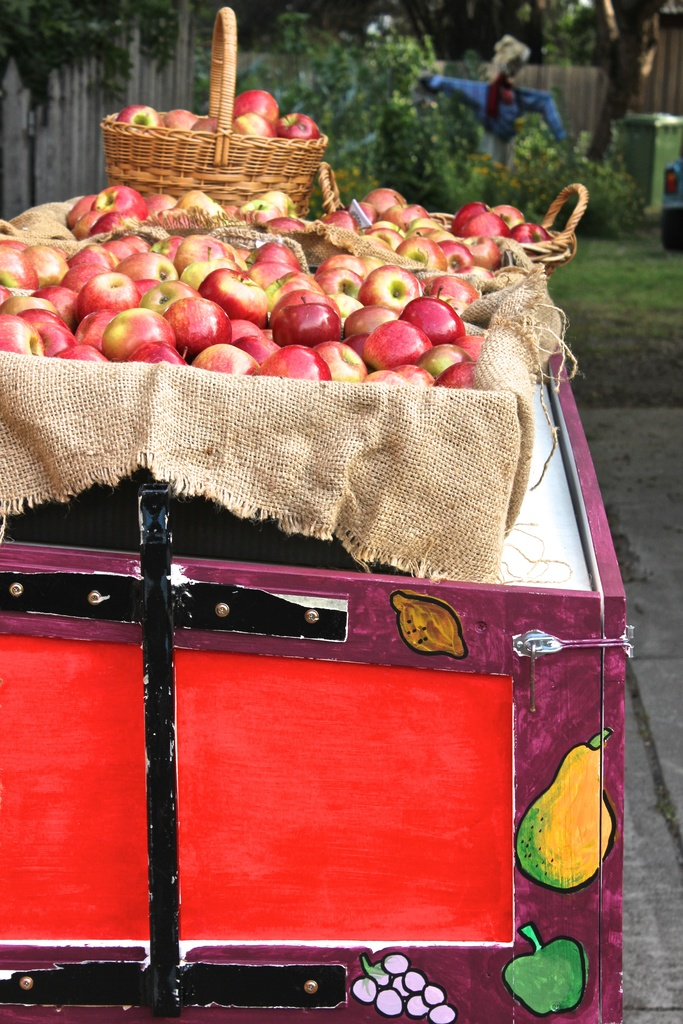Apple: (0, 184, 556, 382), (108, 88, 317, 135), (498, 920, 587, 1016), (101, 305, 174, 356)
